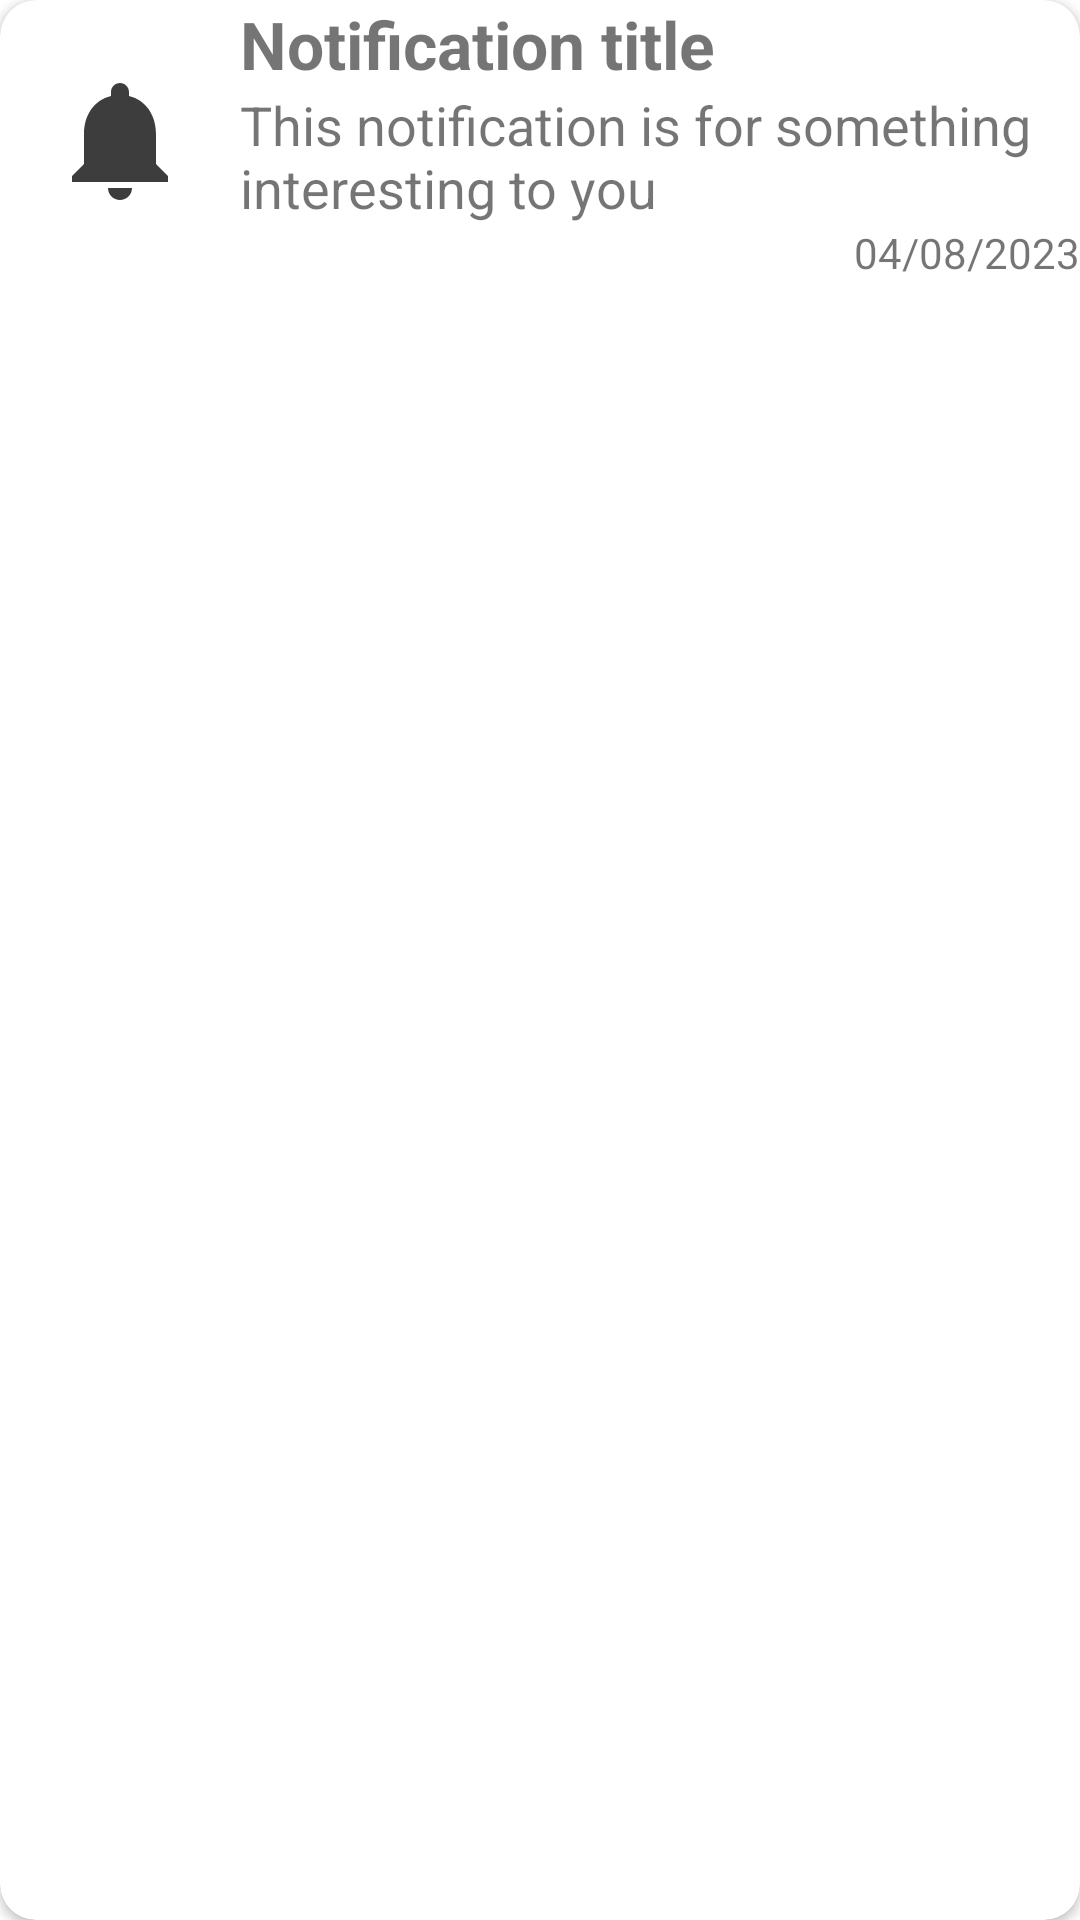

Named icons in this screenshot (1080px x 1920px) and their bounding boxes, [x1,y1,x2,y2]:
notifications: [72,83,168,200]
